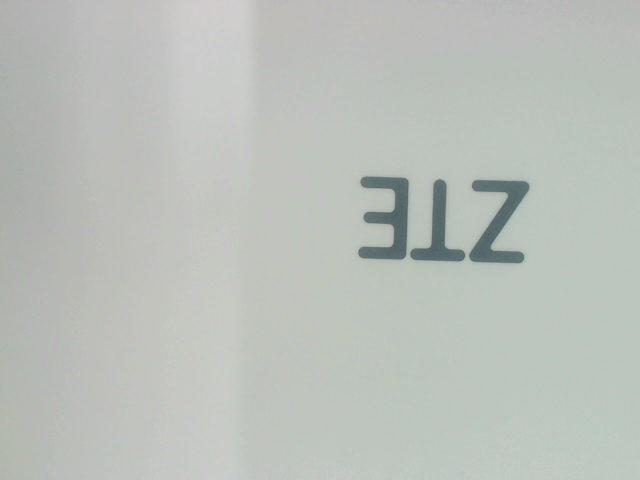AN_ZTELarge: (340, 168, 537, 277)
